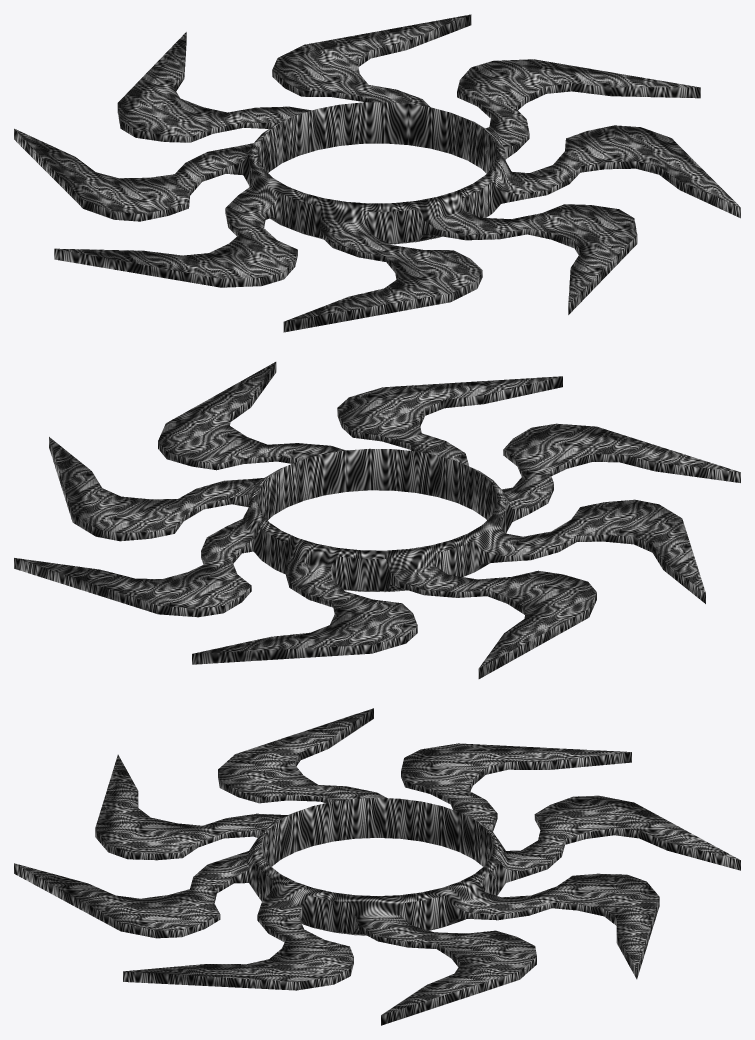
Rendered from xenospace-asteroid-towerfan.glb.
3 views of the same model, one above another, from view 1: azimuth 30°, elevation 25°; view 2: azimuth 150°, elevation 25°; view 3: azimuth 270°, elevation 25° (orthographic). The views are drawn at different scales.
Visible parts, largest first — view 1: TowerFan; view 2: TowerFan; view 3: TowerFan.
Boxes of the visible parts, x1=… form: TowerFan: x1=14, y1=14, x2=740, y2=332; TowerFan: x1=14, y1=362, x2=740, y2=678; TowerFan: x1=14, y1=708, x2=740, y2=1025.
Bounding box in the file's own units: 3.67 × 0.2229 × 3.67.
Materials: 1 (1 with a texture image).
